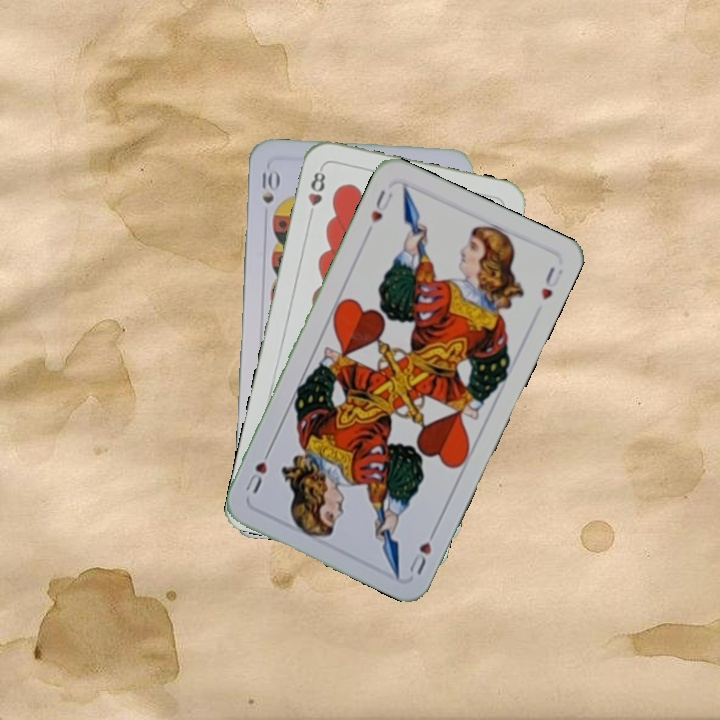H8: (304, 164, 328, 222)
HU: (405, 523, 440, 577), (366, 185, 396, 226)
S10: (258, 166, 280, 205)
